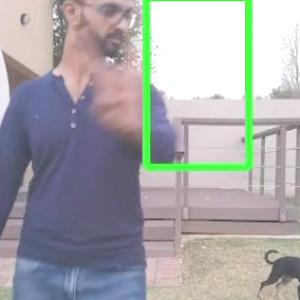takeoff-hand: (84, 41, 147, 132)
